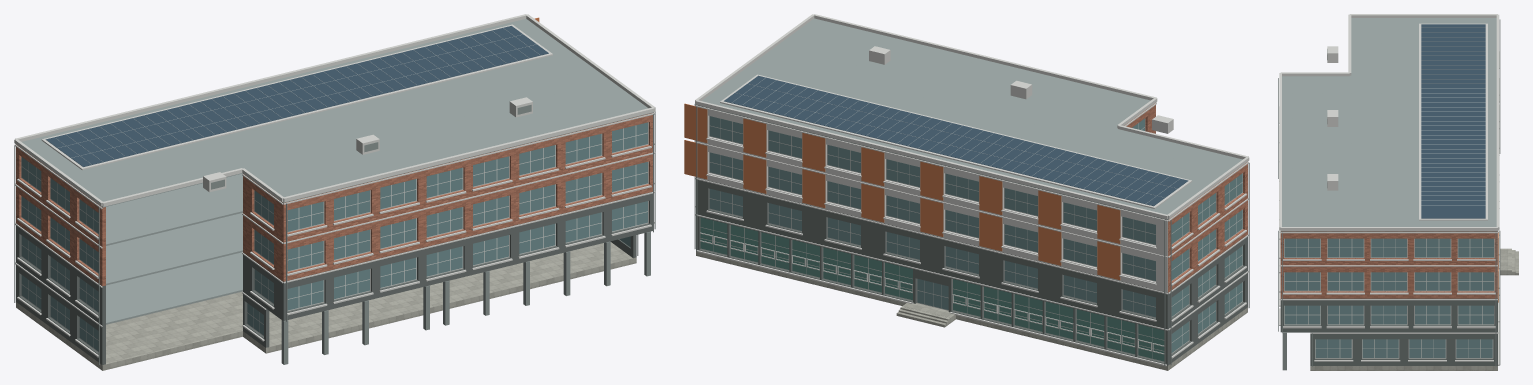
3 renders of one model, left to right at view 1: azimuth 30°, elevation 25°; view 2: azimuth 150°, elevation 25°; view 3: azimuth 270°, elevation 25°, orthographic. The views are drawn at different scales.
Parts seen in each view (by area): view 1: south__roof, south__glass, south__brick, south__white, south__pv, south__stone, south__dark, south__frame, south__steel, south__pvgrid; view 2: south__roof, south__white, south__glass, south__dark, south__pv, south__orange, south__green-glass, south__frame, south__brick, south__stone, south__pvgrid, south__steel (+1 smaller); view 3: south__roof, south__glass, south__pv, south__white, south__brick, south__dark, south__frame, south__pvgrid, south__steel, south__stone, south__stair-courtyard, south__threshold-courtyard.
Part boxes in pixels (x1,y1,x2,y2): south__roof: (22,19,653,324); south__glass: (21,122,647,351); south__brick: (16,113,652,286); south__white: (14,14,655,357); south__pv: (45,26,548,166); south__stone: (16,242,636,370); south__dark: (16,191,652,364); south__frame: (21,122,648,351); south__steel: (14,104,655,364); south__pvgrid: (54,28,540,164); south__roof: (696,18,1242,219); south__white: (695,14,1249,366); south__glass: (709,116,1242,352); south__dark: (696,178,1247,365); south__pv: (724,75,1188,206); south__orange: (684,103,1120,280); south__green-glass: (700,217,1164,361); south__frame: (700,116,1242,361); south__brick: (696,103,1247,292); south__stone: (696,251,1247,370); south__pvgrid: (732,78,1180,203); south__steel: (694,104,1249,365); south__roof: (1280,18,1497,332); south__glass: (1284,238,1493,357); south__pv: (1421,24,1485,218); south__white: (1279,14,1499,365); south__brick: (1280,231,1497,298); south__dark: (1280,298,1497,365); south__frame: (1284,238,1494,358); south__pvgrid: (1421,27,1485,205); south__steel: (1278,19,1500,370); south__stone: (1310,366,1497,370); south__stair-courtyard: (1508,248,1518,275); south__threshold-courtyard: (1500,248,1508,275).
Size of the model in its own units: 52.48 by 16.87 by 24.38.
12 materials, 5 textured.
